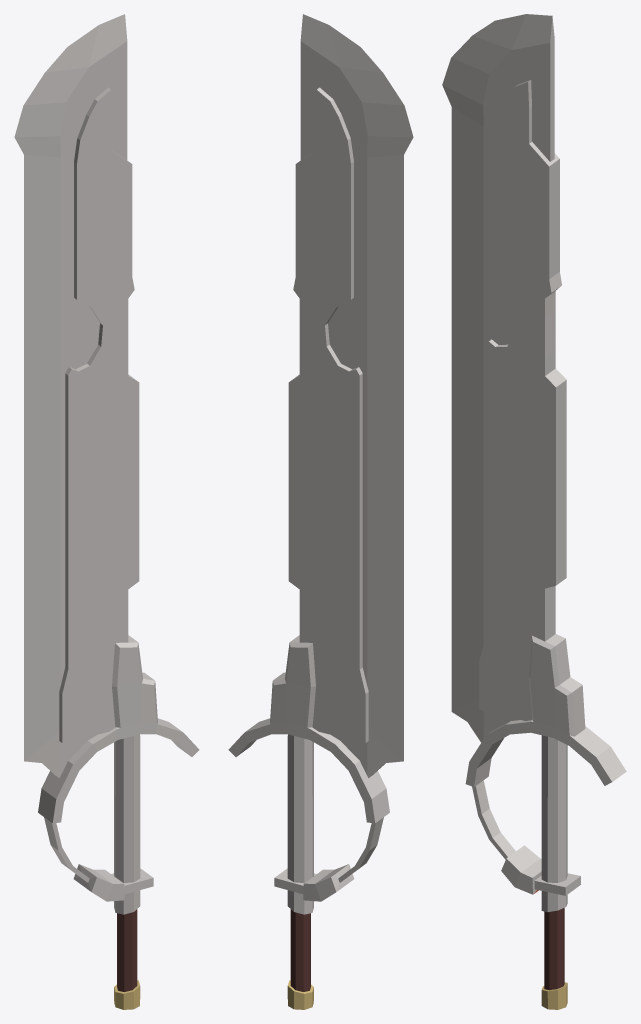
3 views of the same model, side by side, from view 1: azimuth 30°, elevation 25°; view 2: azimuth 150°, elevation 25°; view 3: azimuth 330°, elevation 25° (orthographic).
Bounding box in the file's own units: 0.1878 × 1 × 0.0357.
